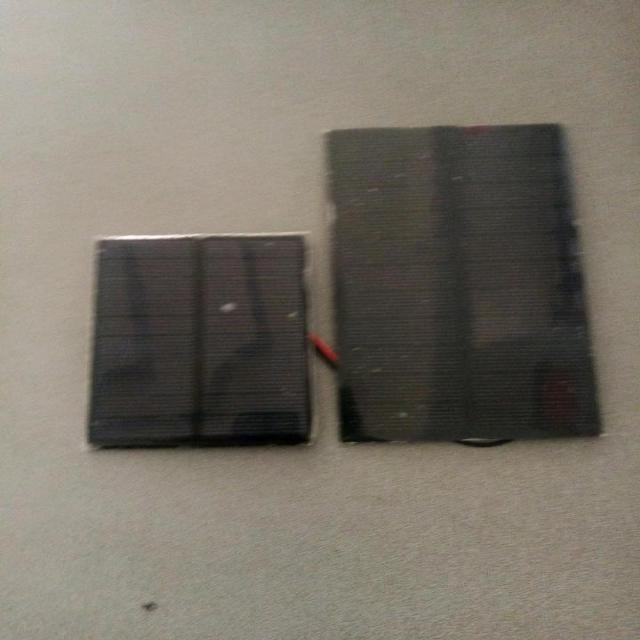faulty: (347, 113, 582, 457), (105, 225, 311, 462)
